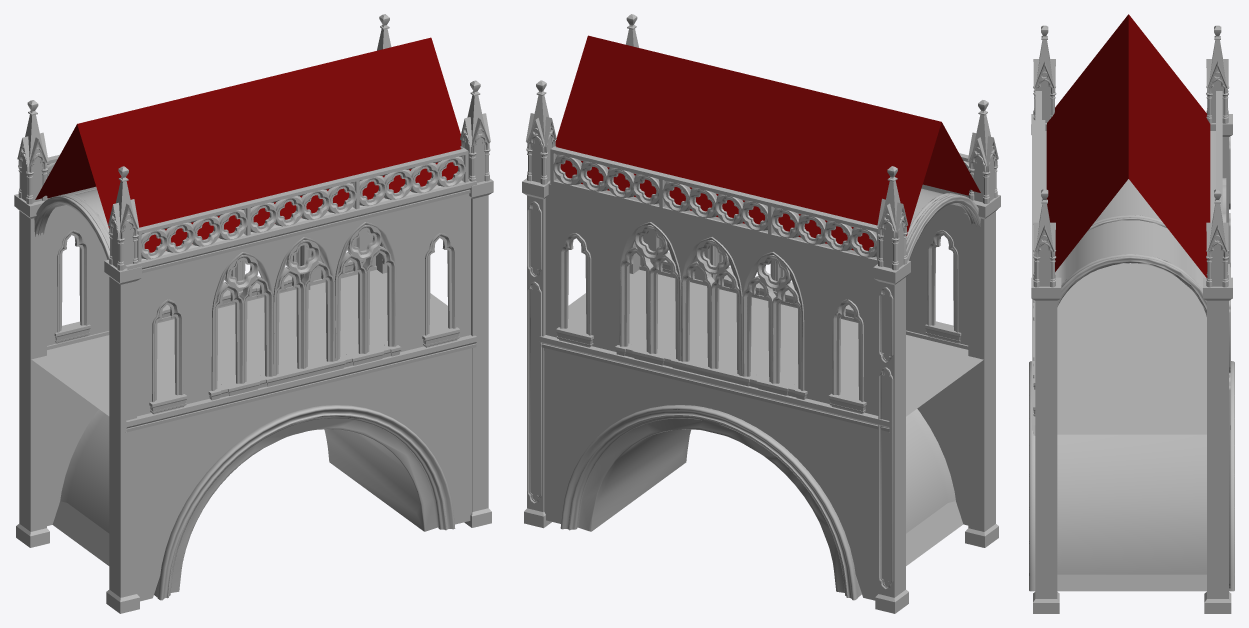
File: bridge_003.glb
3 renders of one model, left to right at view 1: azimuth 30°, elevation 25°; view 2: azimuth 150°, elevation 25°; view 3: azimuth 270°, elevation 25°, orthographic. The views are drawn at different scales.
Visible parts, largest first — view 1: bridge_003; view 2: bridge_003; view 3: bridge_003.
Part boxes in pixels (bbox=[...]): bridge_003: bbox=[14, 14, 493, 613]; bridge_003: bbox=[522, 14, 1000, 613]; bridge_003: bbox=[1029, 14, 1234, 613].
Bounding box in the file's own units: 2.14 × 2.47 × 1.07.
